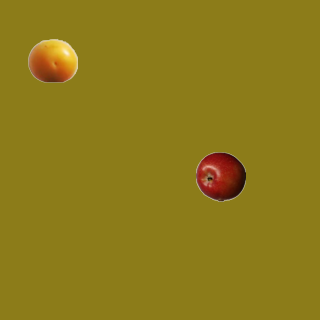Apple Braeburn: (195, 151, 245, 201)
Cherry Wax Yellow: (27, 35, 77, 85)
